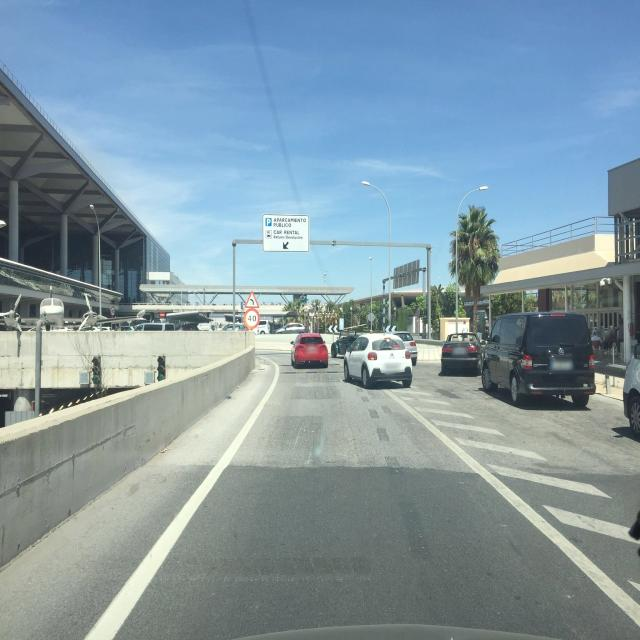car: (480, 310, 596, 407), (343, 332, 413, 388), (622, 319, 640, 443), (440, 331, 482, 375), (290, 333, 328, 368), (392, 330, 418, 366), (330, 334, 360, 358), (256, 320, 270, 334)
